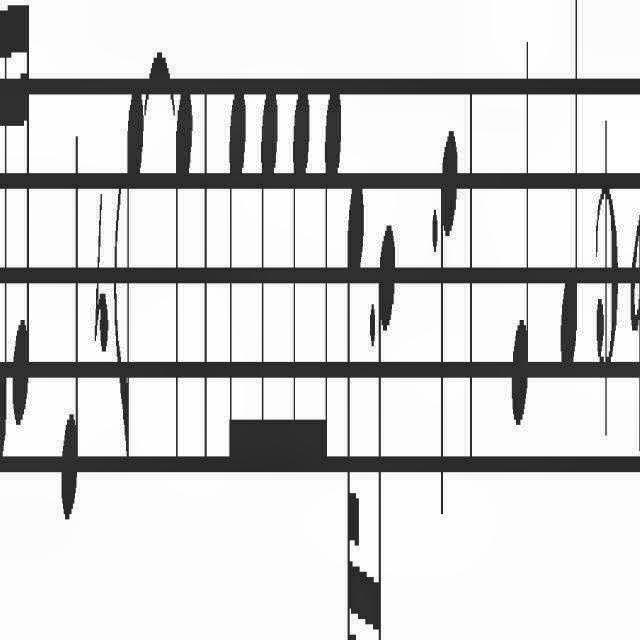Bemol: (628, 200, 640, 472)
Eighth-note: (112, 79, 144, 482), (321, 76, 344, 490), (258, 51, 278, 523), (292, 66, 312, 490), (228, 56, 246, 512)
Eighth-rest: (92, 182, 108, 366)
Quarter-note: (508, 26, 532, 446), (59, 106, 81, 542), (174, 78, 194, 498), (438, 123, 458, 537), (559, 0, 579, 408)
Sixteenth-note: (12, 0, 32, 436), (376, 220, 396, 640), (0, 0, 8, 467)
